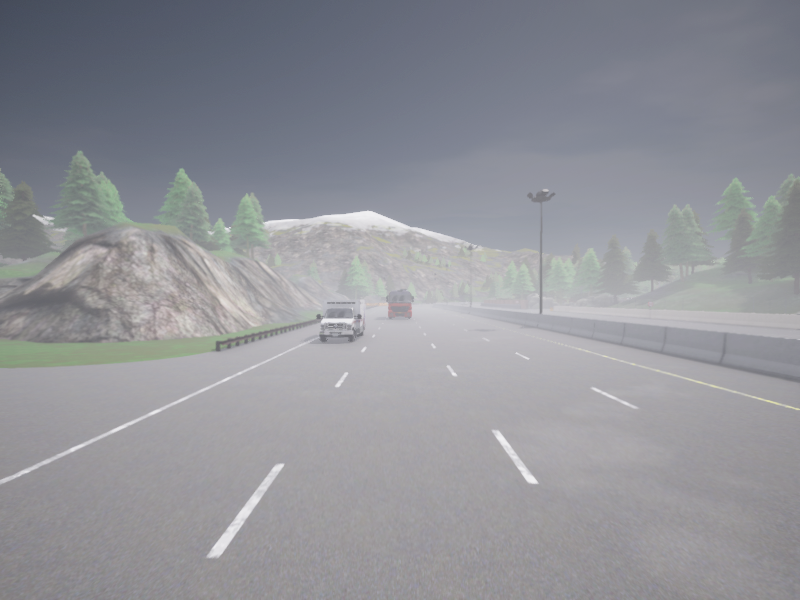vehicle: (316, 300, 365, 342), (386, 289, 413, 318), (462, 301, 467, 304)
